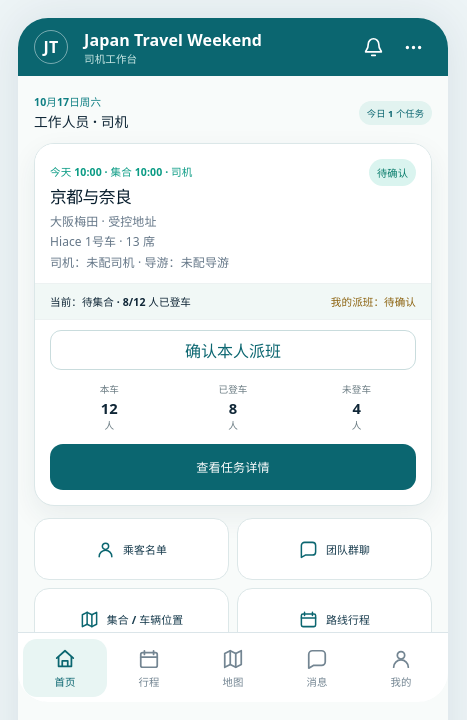
工作人员端 › 待执行任务由真实 RPC 确认并重新读取
This screenshot has width=467, height=720.
Click the button "确认本人派班" at (233, 350), box top-left (50, 330), bottom-right (416, 370)
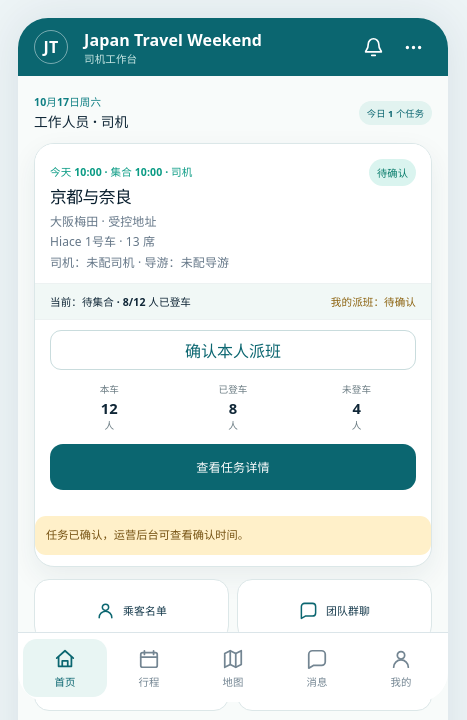
expect the text "任务已确认，运营后台可查看确认时间。" is shown: met, box top-left (35, 516), bottom-right (431, 555)
